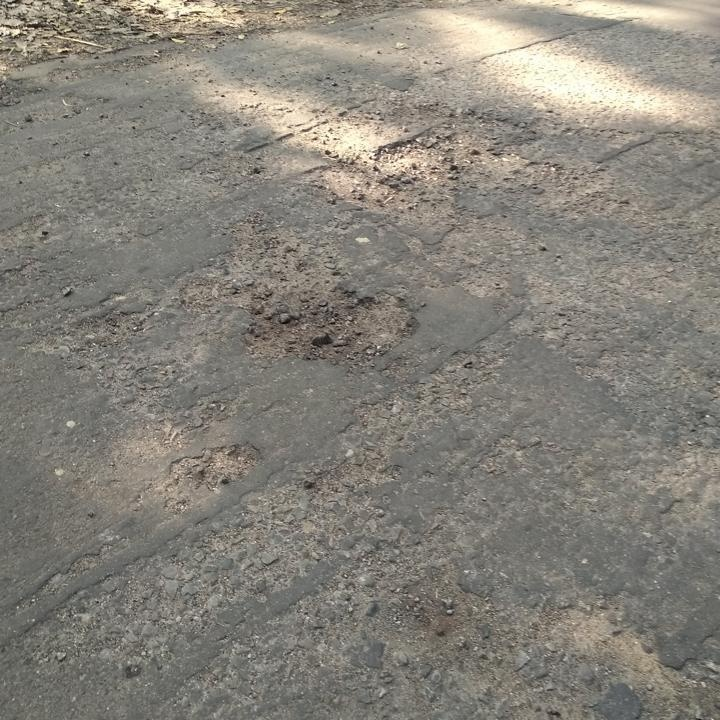pothole: (237, 283, 421, 375), (317, 135, 463, 223), (168, 438, 266, 493)
